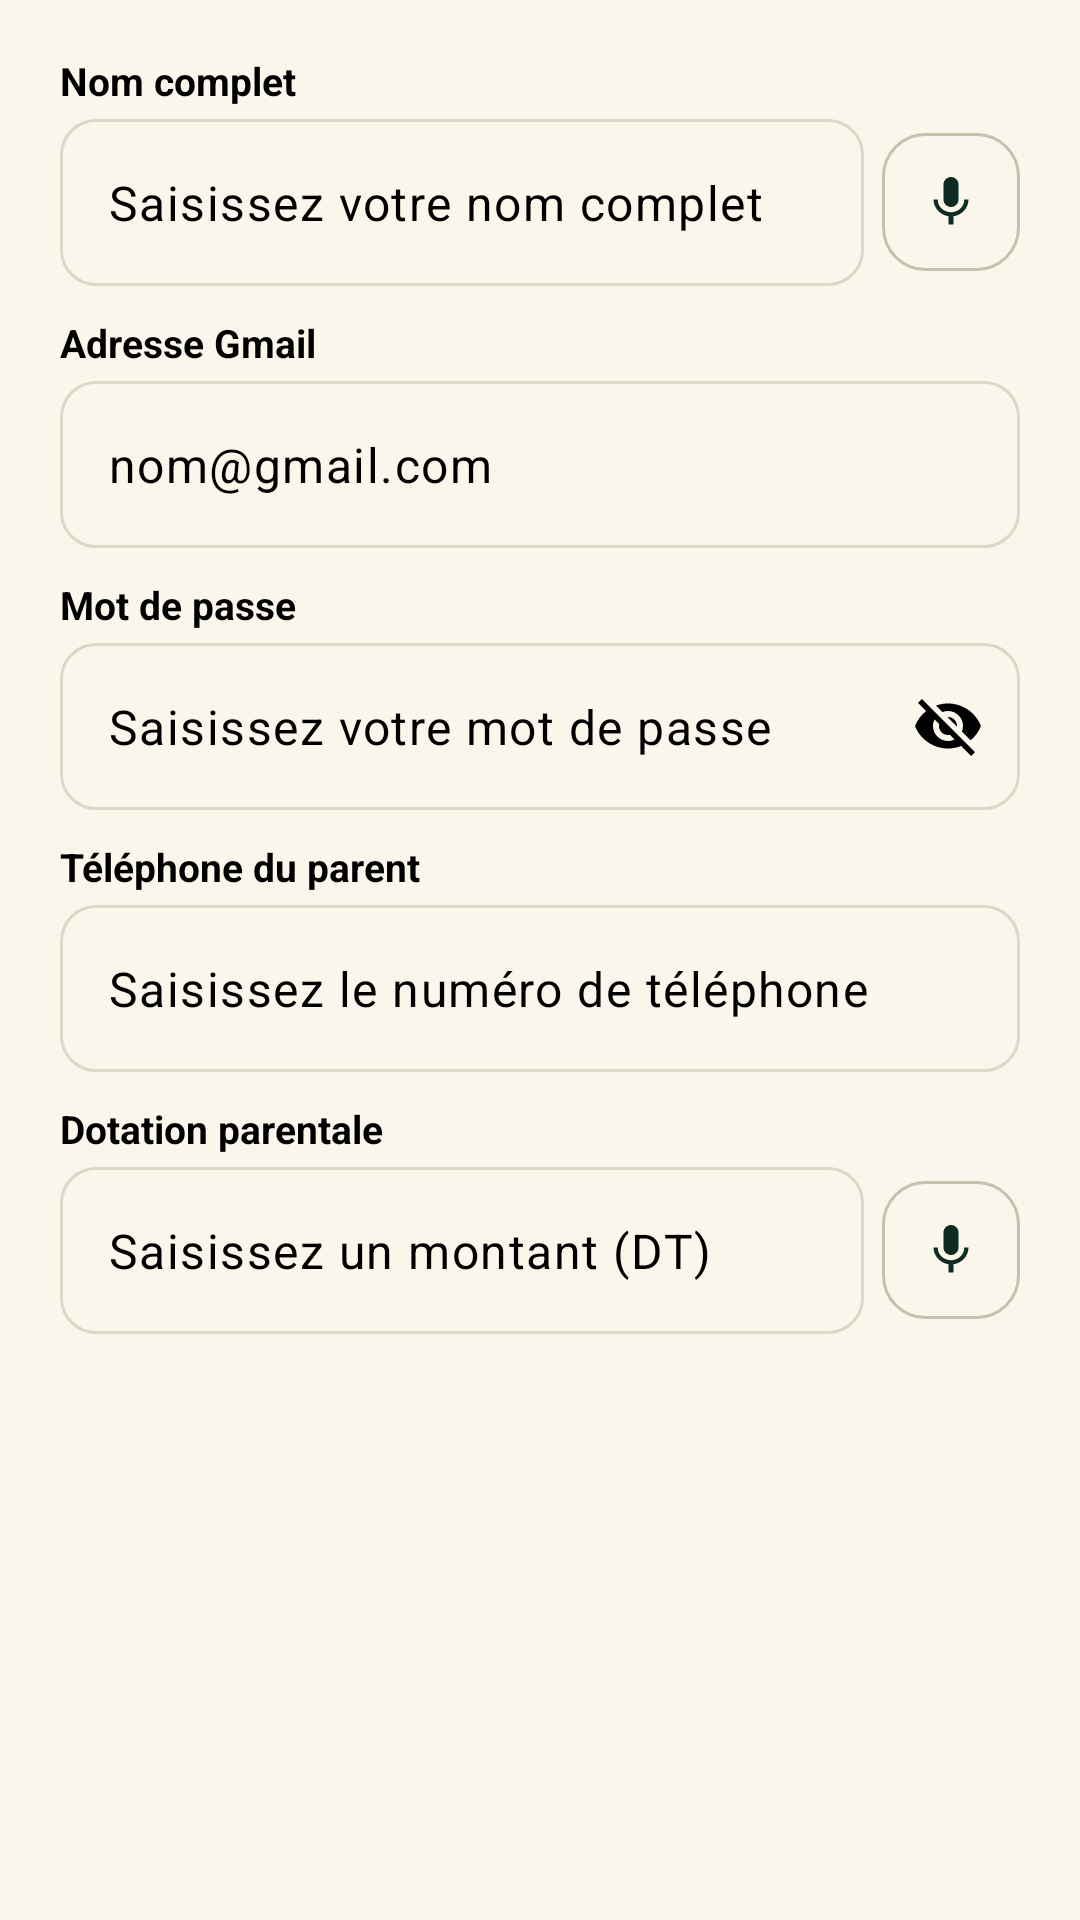

Icon click points for this 1080 x 1920 phone screenshot, format point (x, y):
Dicter ce champ par la voix: point (951, 202), point (951, 1250)
